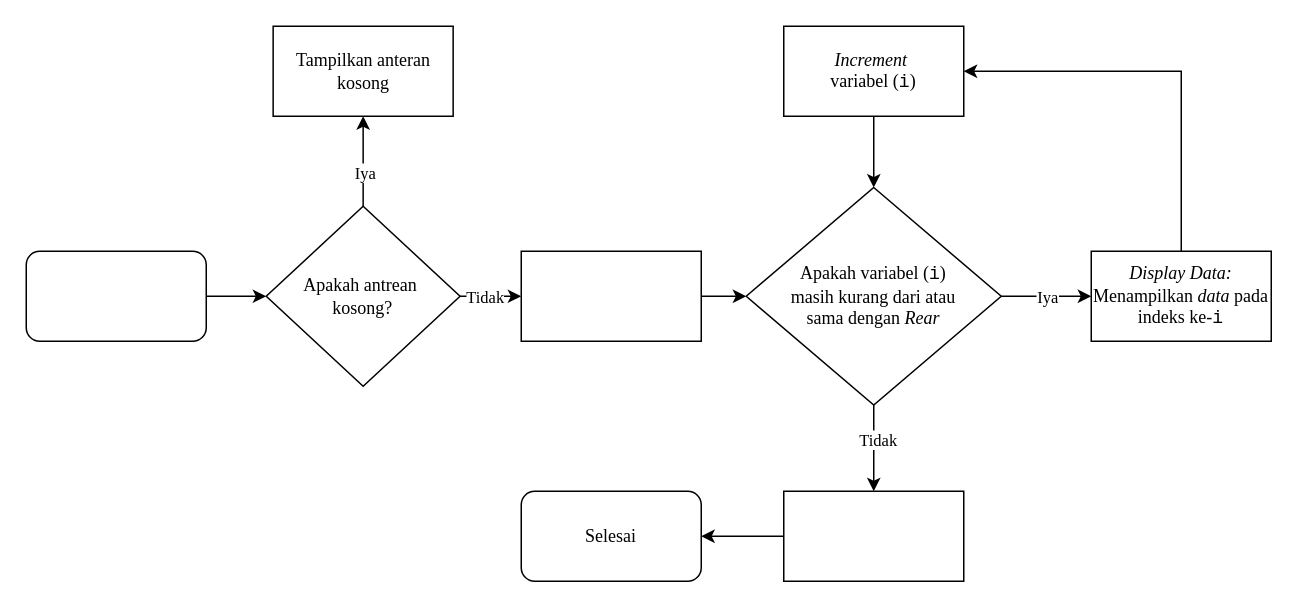
Some shapes in this 1298 by 608 pixel diagram are drawn without their labels. The shapes that lost their labels are listed below. From the top down, each one's centre as x and y in pixels, then its label:
(115,295): Mulai
(610,295): Initialization variabel bantu ( i ) sama dengan posisi Front .
(873,535): Data telah tercetak semua
